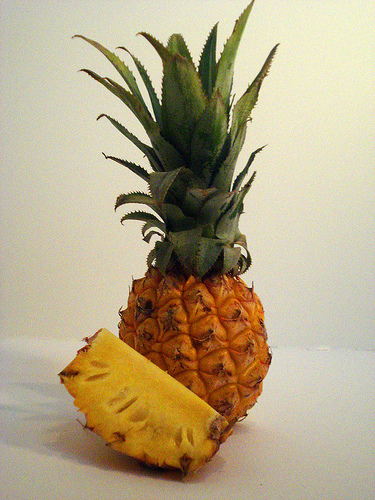pineapple: (70, 0, 278, 443), (58, 327, 227, 477)
